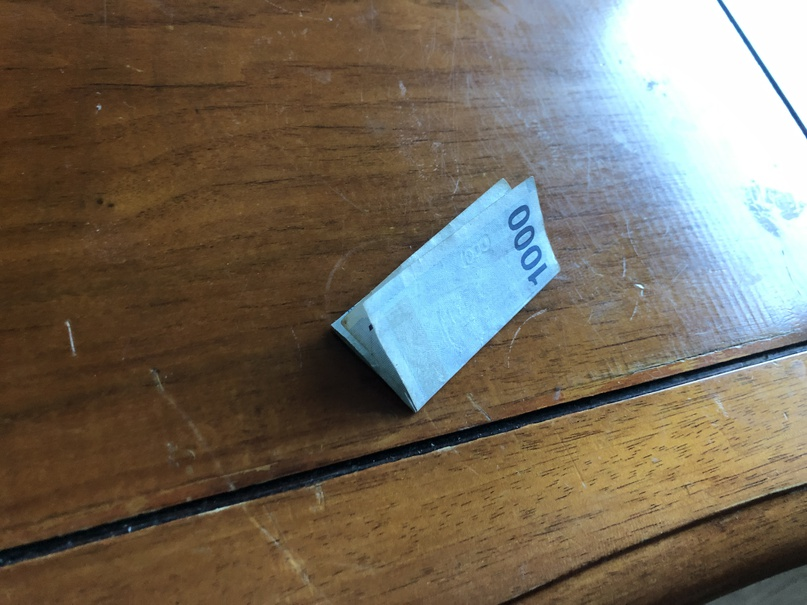1000won: (332, 175, 562, 414)
